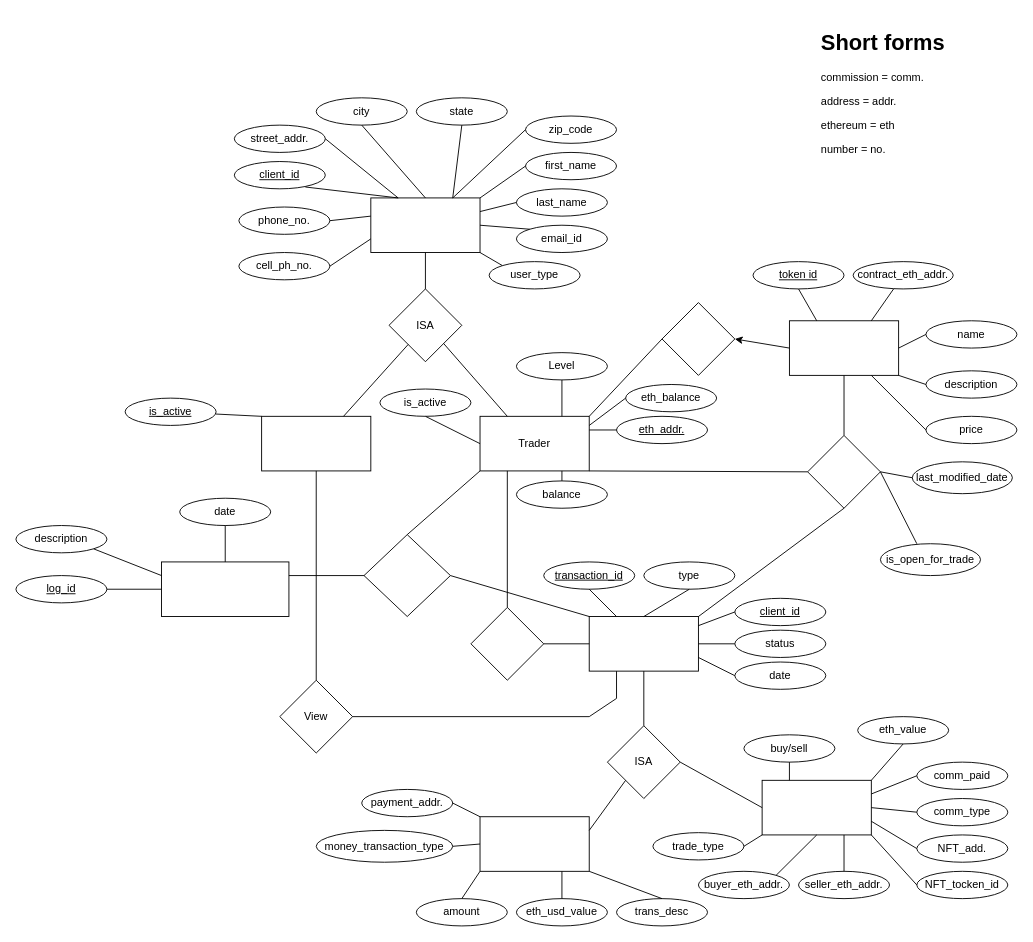
Image size: 1033x942. Some labels were removed from this diagram. Each missing label, with the centre of its shape:
"Add/withdraw" goes at (x=507, y=643).
"Manager" goes at (x=316, y=443).
"Money_Transaction" goes at (x=534, y=843).
"NFT" goes at (x=844, y=347).
"owns" goes at (x=698, y=338).
"Trade" goes at (x=843, y=471).
"Trade_Transaction" goes at (x=816, y=807).
"Transaction H istory" goes at (x=643, y=643).
"Transaction H istory Logs" goes at (x=225, y=589).
"update/cancel" goes at (x=406, y=575).
"User" goes at (x=425, y=225).
